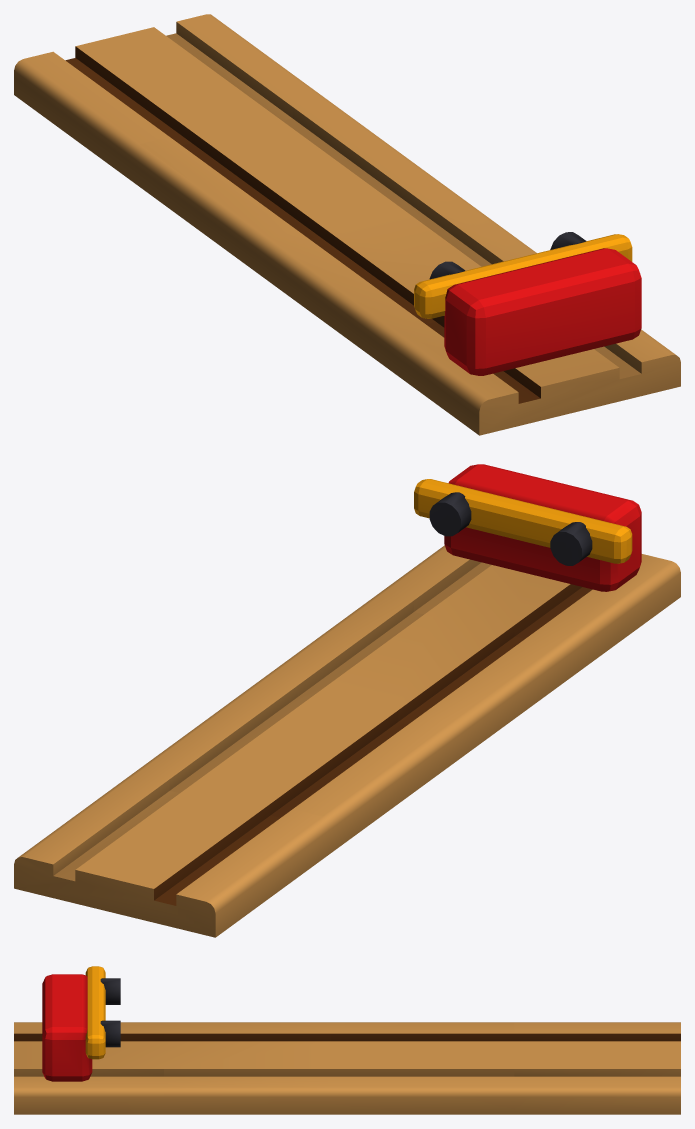
The model's file is Depot.fbx.
3 views of the same model, one above another, from view 1: azimuth 30°, elevation 25°; view 2: azimuth 150°, elevation 25°; view 3: azimuth 270°, elevation 25° (orthographic). The views are drawn at different scales.
Visible parts, largest first — view 1: Depot; view 2: Depot; view 3: Depot.
Boxes of the visible parts, x1,y1,x2,y2 form: Depot: (14,14,680,435); Depot: (14,464,680,937); Depot: (14,966,680,1114).
Bounding box in the file's own units: 1.05 × 0.52 × 4.
